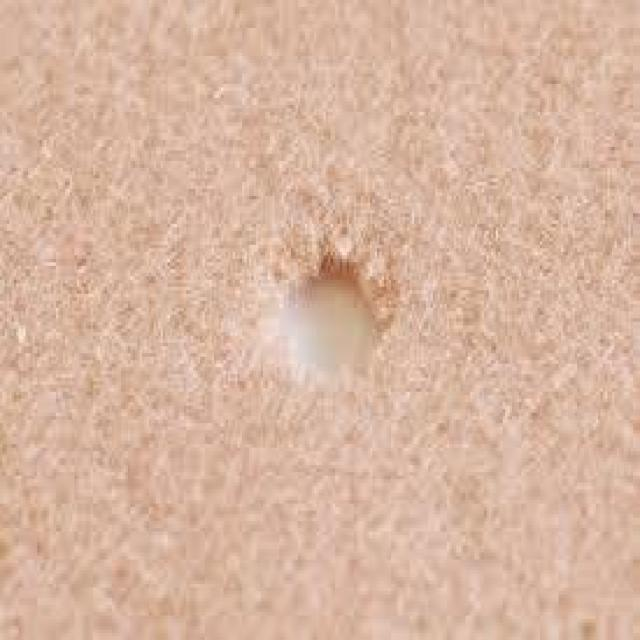hole: (257, 238, 390, 394)
